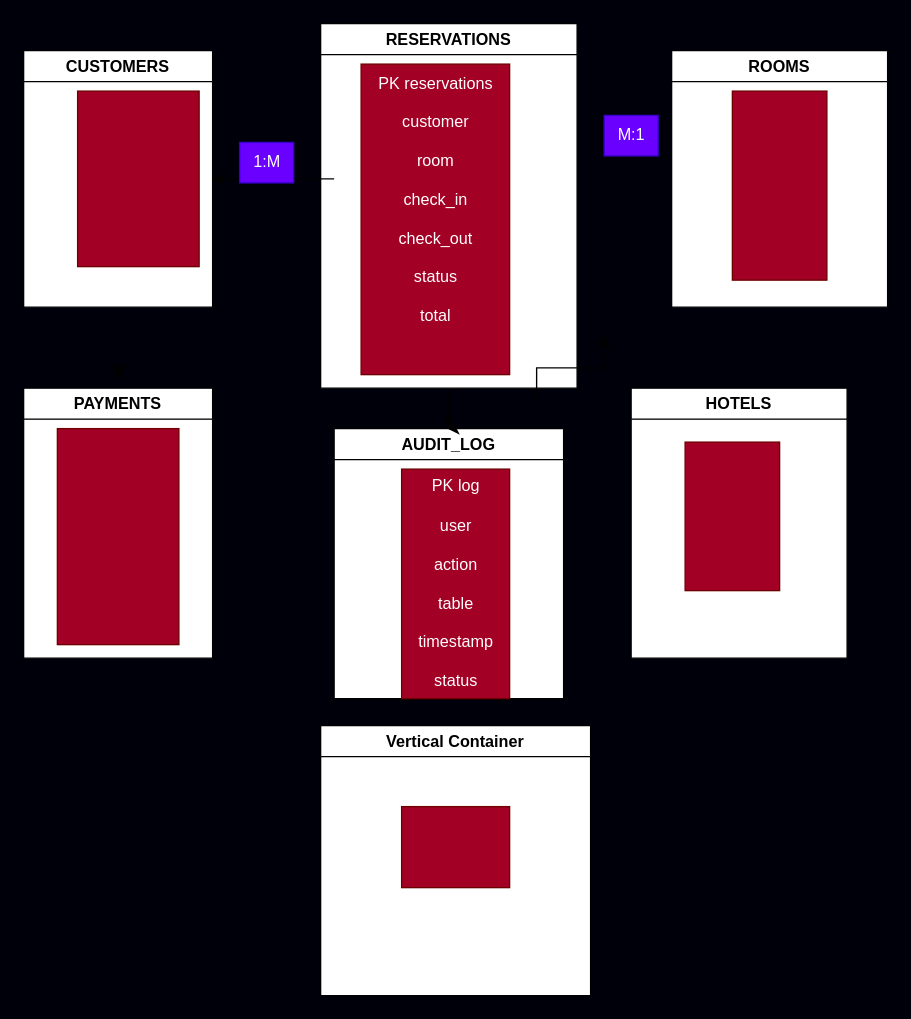
This 911x1019 diagram has some shape labels left out. The centre of each missing label's shape, as x and y in pixels:
"PK customer name email phone" belongs at (137,178).
"PK holiday date name" belongs at (455,846).
"PK hotel name location rating" belongs at (732,516).
"PK payment reserv amount date method" belongs at (117,536).
"PK room hotel type price status" belongs at (779,185).
